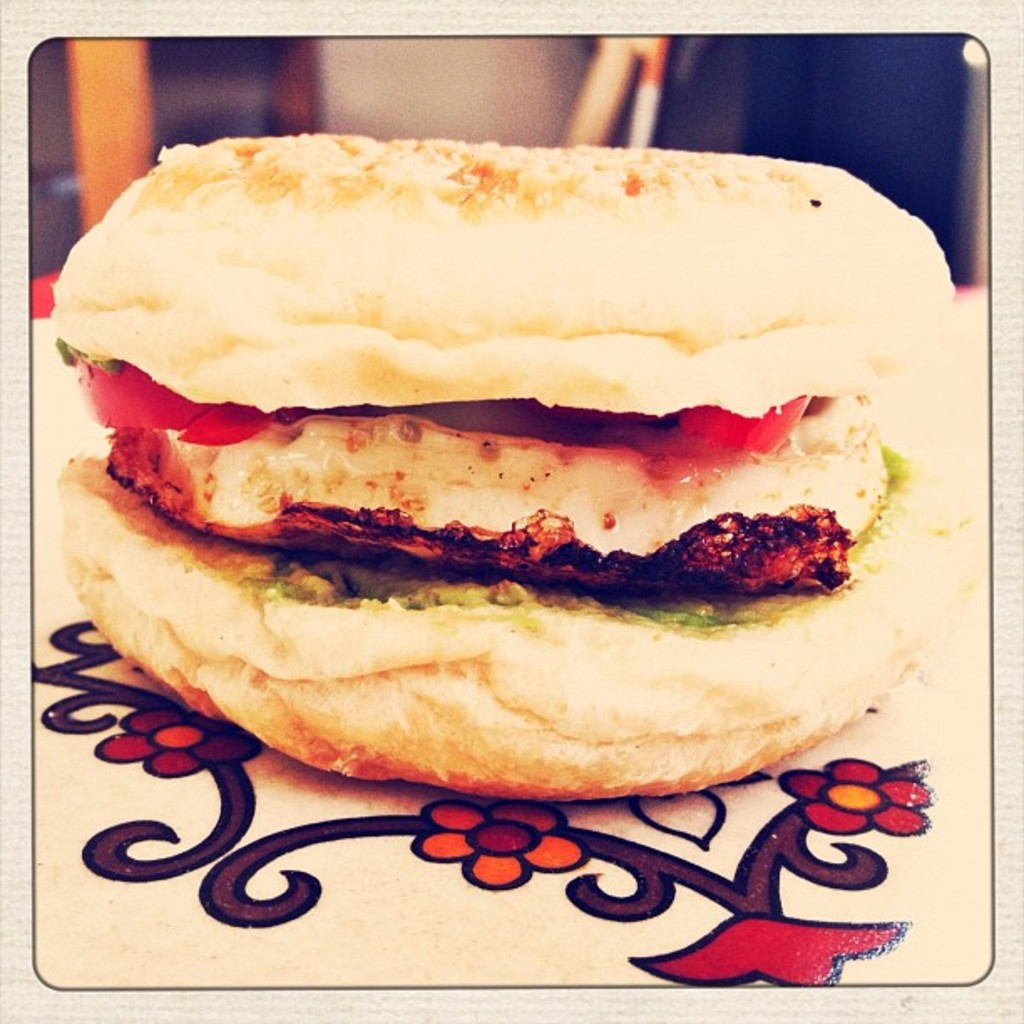Hamburger: (50, 137, 952, 794)
